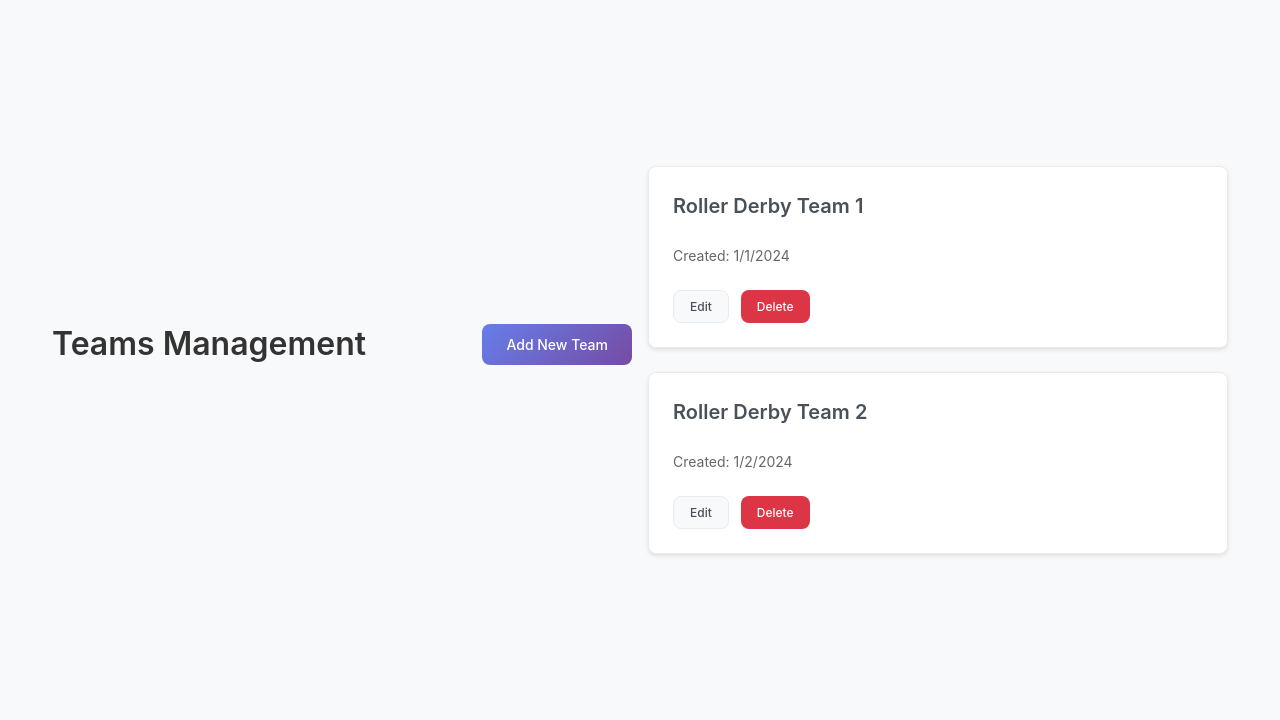
Teams Component › creates a new team
Note: Click add team button
Click the button "Add New Team" at (557, 344), box [482, 324, 632, 364]
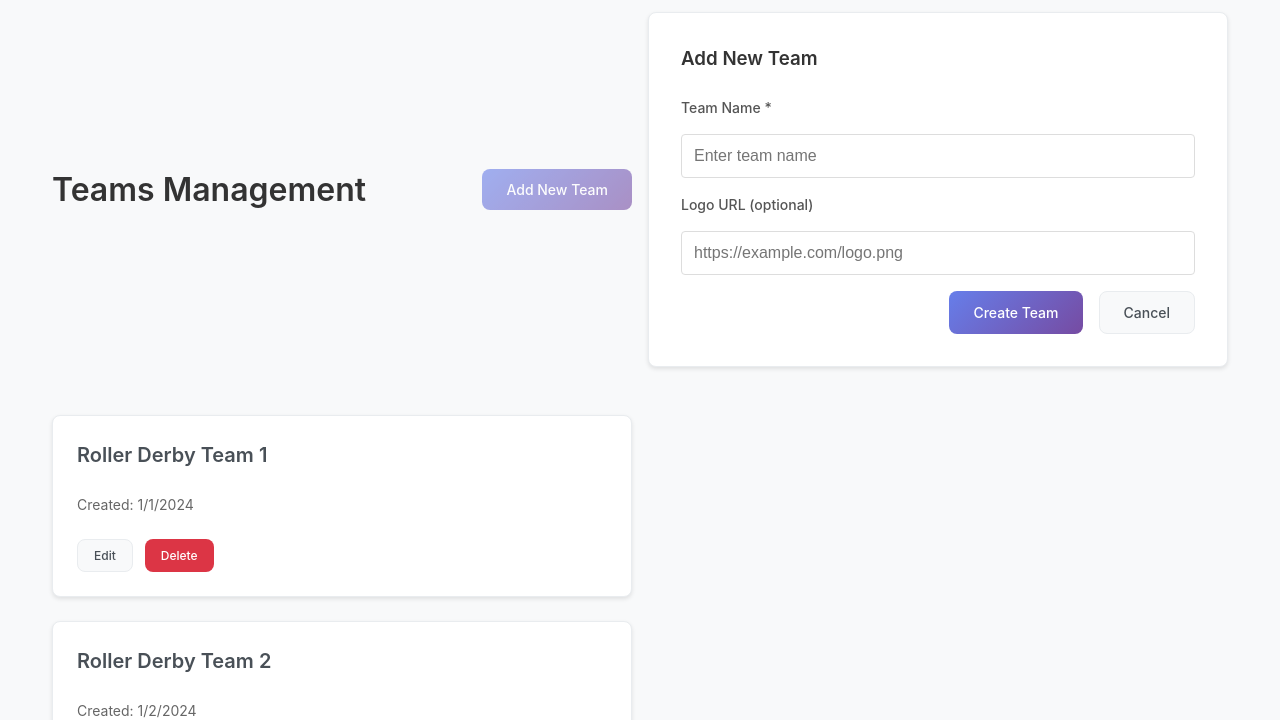
Note: Fill in team name
Type "New Team" into the field with placeholder "Enter team name" at (938, 156), box [681, 134, 1195, 178]
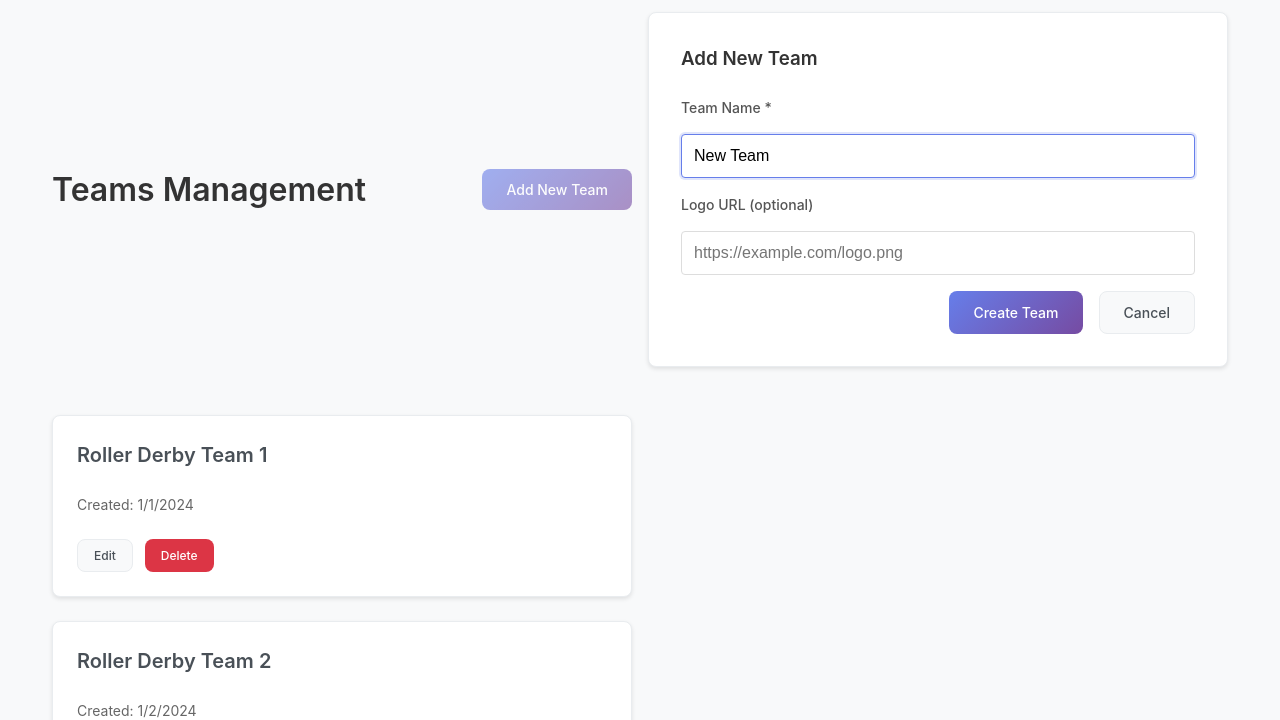
Note: Click save
Click the button "Create Team" at (1016, 313), box [949, 291, 1082, 334]
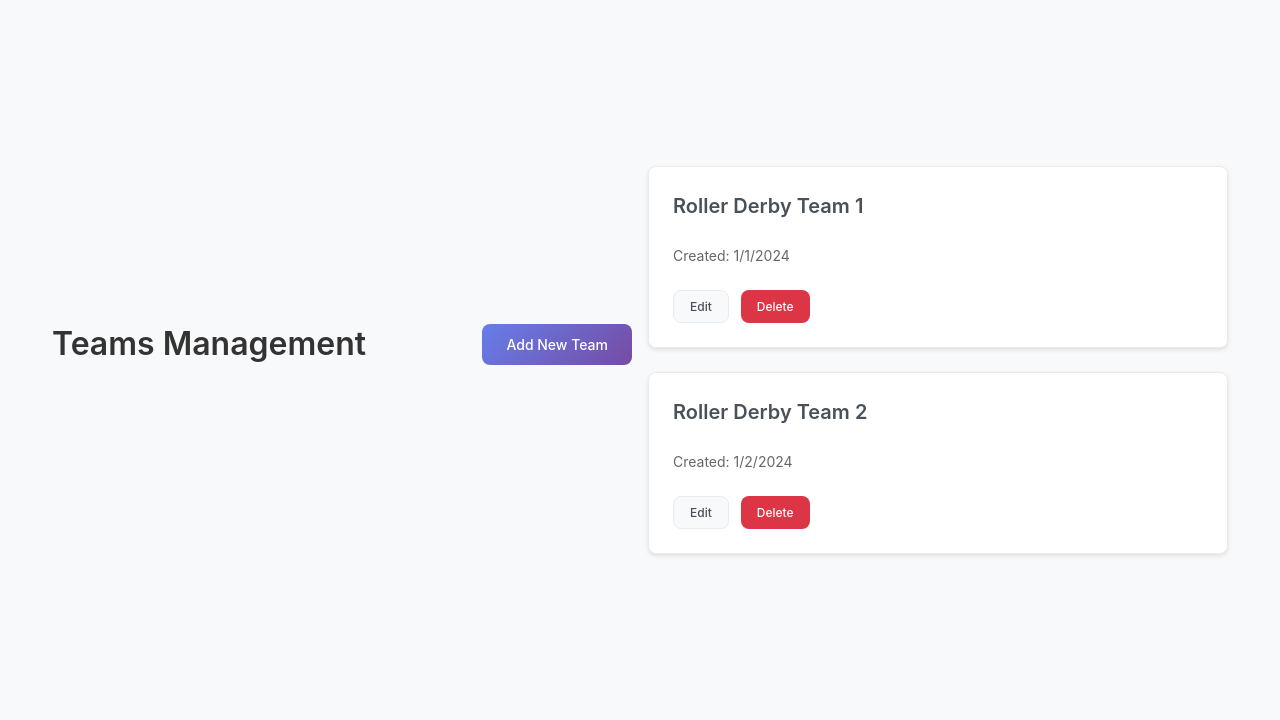
Check: the label with placeholder "Team Name" is gone
